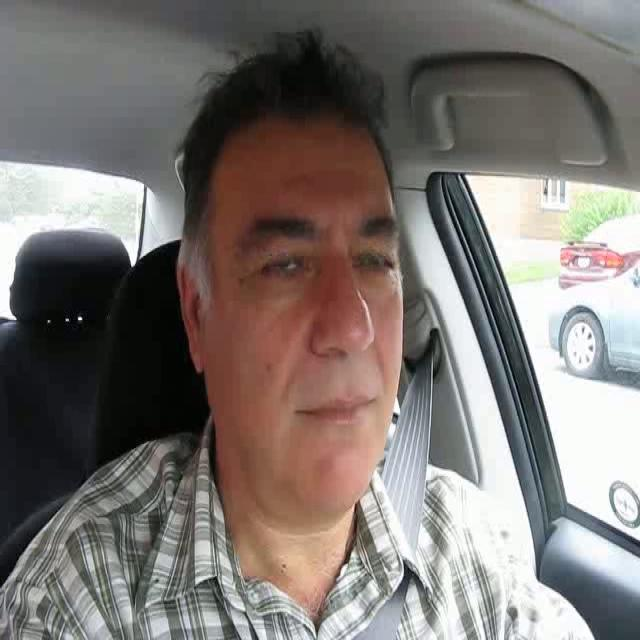close: (288, 387, 386, 435)
